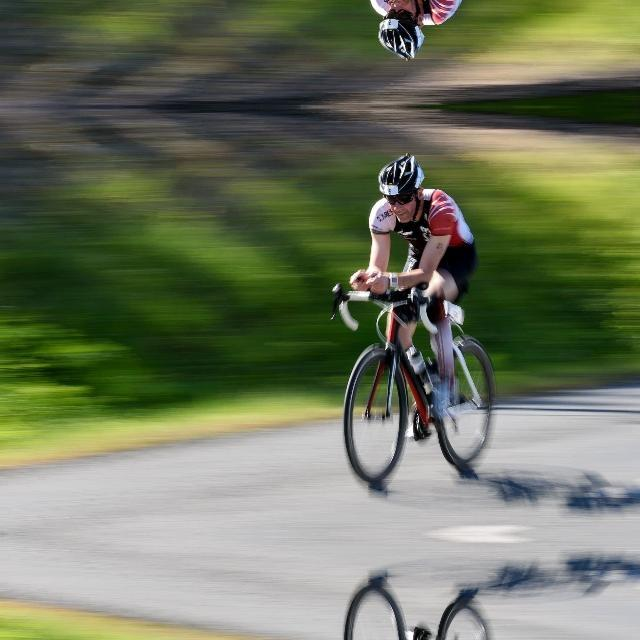obstacle: (298, 250, 552, 466), (297, 600, 552, 640)
